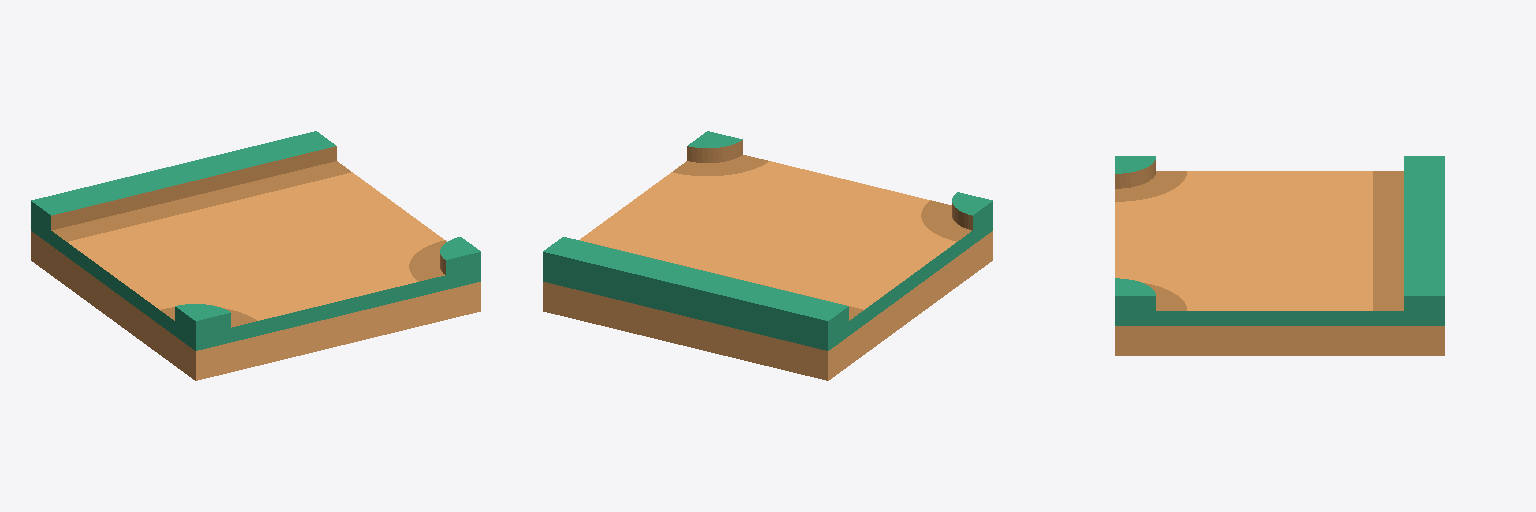
Rendered from tile_split.obj.
The picture shows the model from 3 angles: view 1: azimuth 30°, elevation 25°; view 2: azimuth 150°, elevation 25°; view 3: azimuth 270°, elevation 25°; orthographic projection.
Parts seen in each view (by area): view 1: tile_split; view 2: tile_split; view 3: tile_split.
Boxes of the visible parts, <box> form: tile_split: <box>31,131,480,380</box>; tile_split: <box>543,131,992,380</box>; tile_split: <box>1115,156,1444,355</box>.
Size of the model in its own units: 1 by 0.2 by 1.